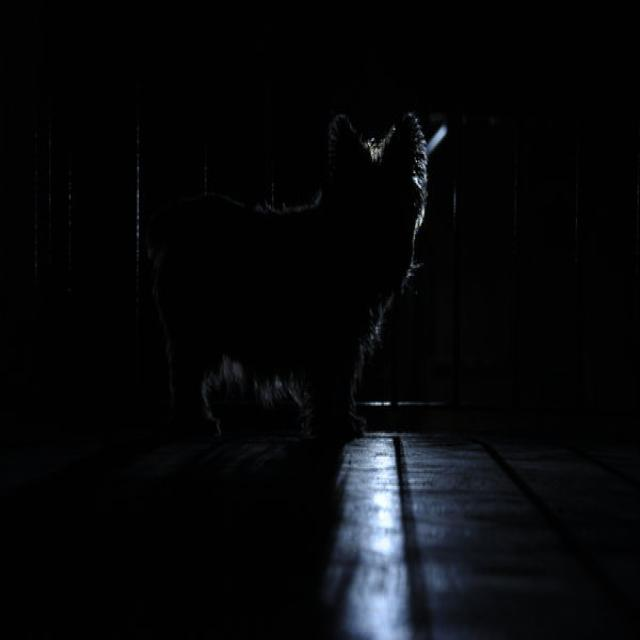dog: (124, 83, 443, 445)
